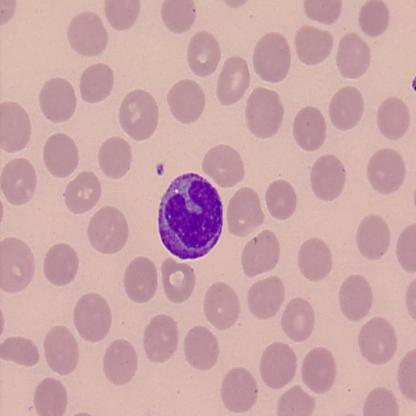Monocyte: (154, 168, 225, 263)
